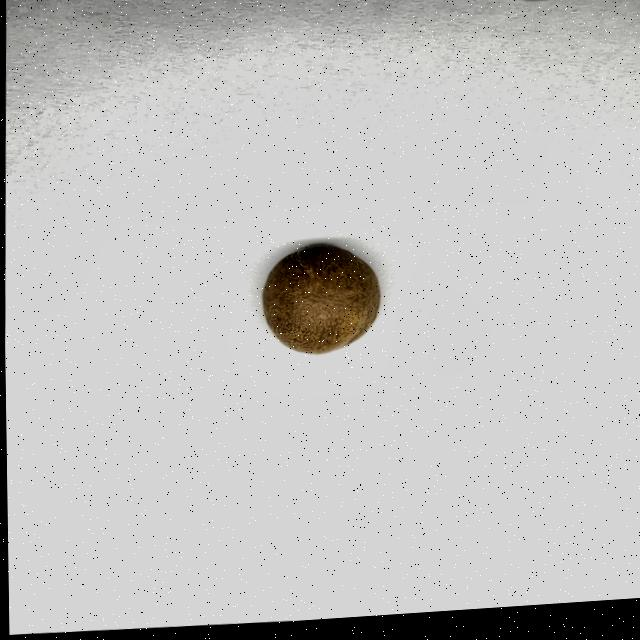Quaker: (259, 247, 380, 362)
